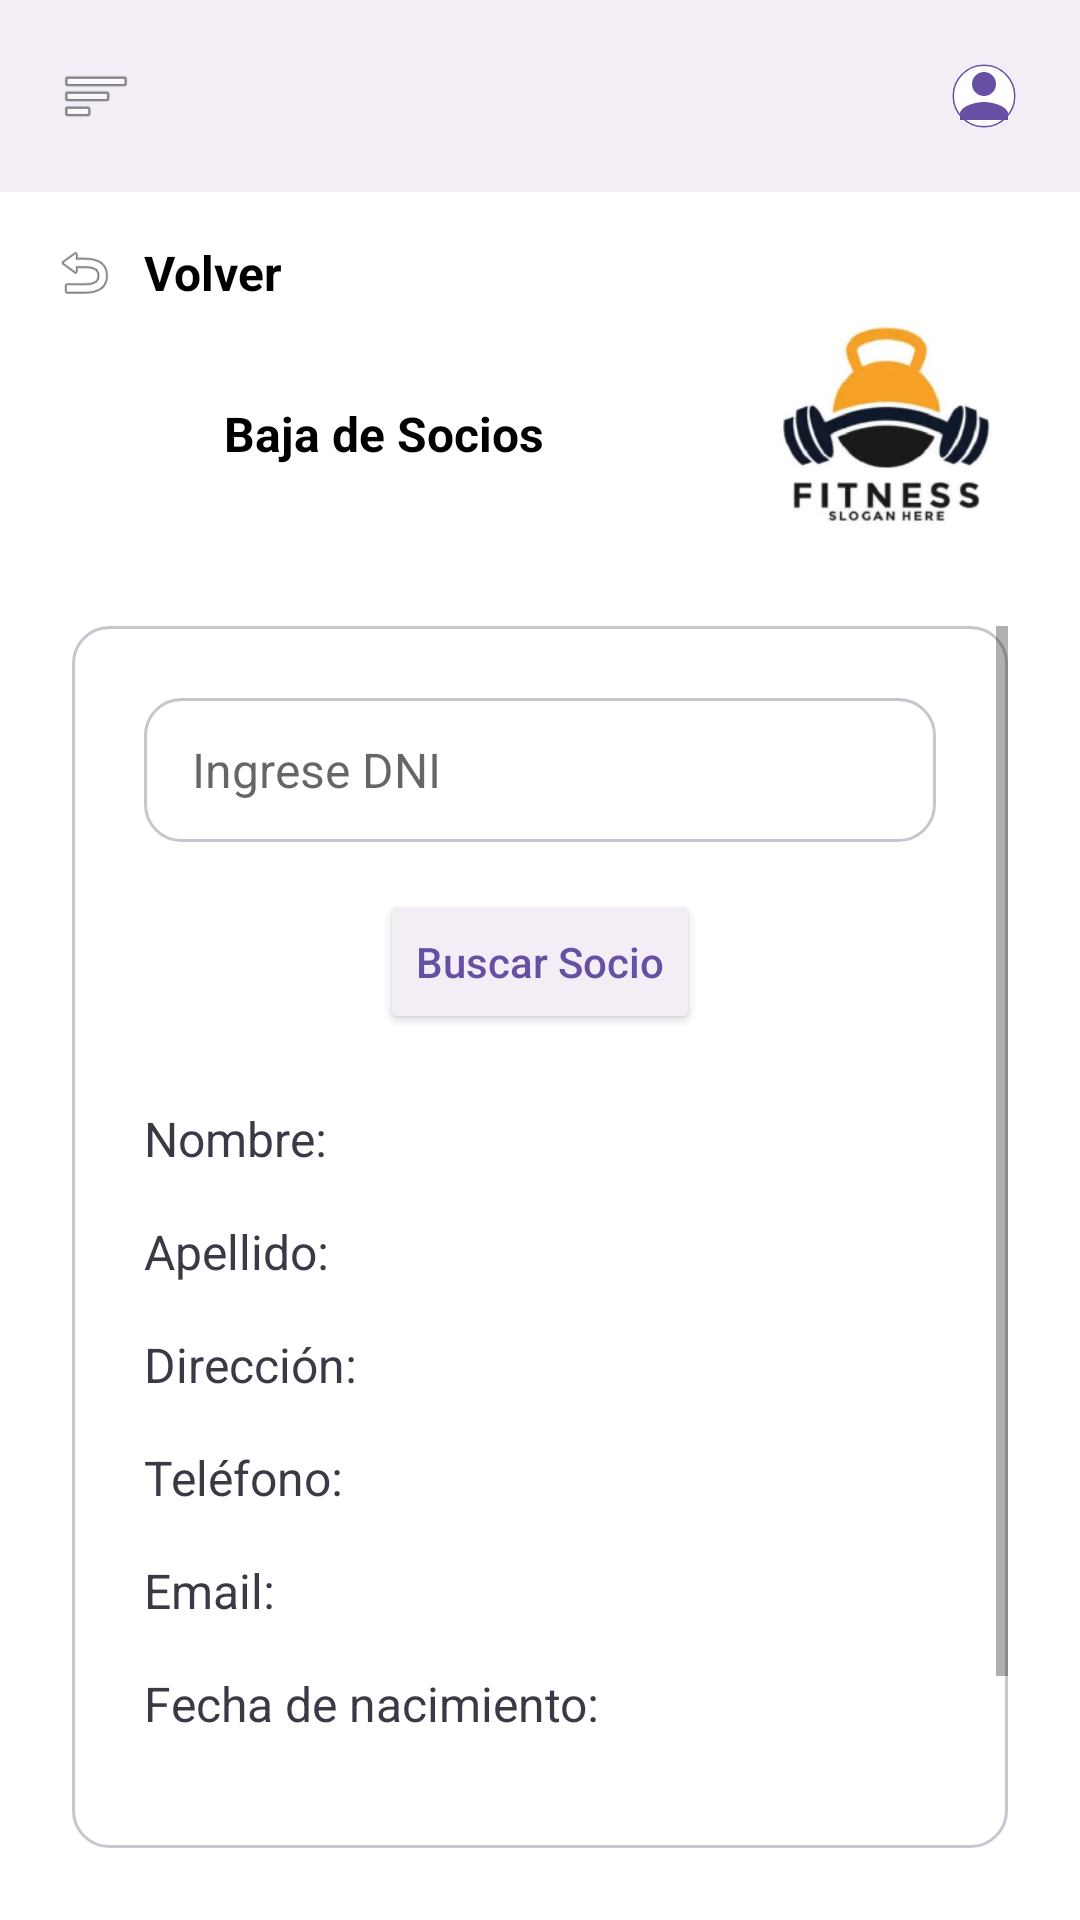

Icon bounding boxes for this 1080x1920 phone screenshot, format box(x1, y1, x2, y2):
revert: box(61, 252, 108, 294)
sort by size: box(65, 76, 127, 117)
